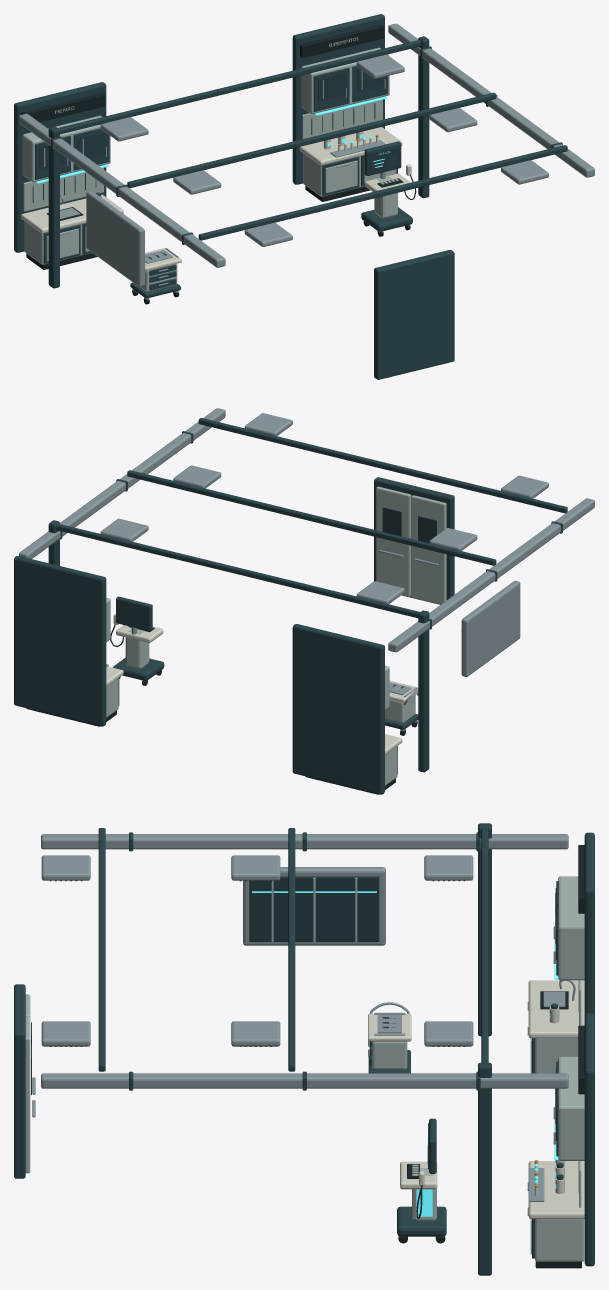
The model's file is entorno-arena.glb.
3 views of the same model, one above another, from view 1: azimuth 30°, elevation 25°; view 2: azimuth 150°, elevation 25°; view 3: azimuth 270°, elevation 25° (orthographic). The views are drawn at different scales.
Visible parts, largest first — view 1: Entorno_Petroleo.001, Entorno_Metal.001, Entorno_Esmalte.001, Entorno_Marfim.001, Entorno_Borracha.001, Entorno_Visor_Opaco.001, Entorno_Ciano.001; view 2: Entorno_Petroleo.001, Entorno_Metal.001, Entorno_Esmalte.001, Entorno_Marfim.001, Entorno_Visor_Opaco.001, Entorno_Borracha.001; view 3: Entorno_Metal.001, Entorno_Petroleo.001, Entorno_Esmalte.001, Entorno_Visor_Opaco.001, Entorno_Marfim.001, Entorno_Borracha.001, Entorno_Ciano.001.
Boxes of the visible parts, <box> form: Entorno_Petroleo.001: <box>14,14,567,379</box>; Entorno_Metal.001: <box>19,23,594,299</box>; Entorno_Esmalte.001: <box>22,47,398,291</box>; Entorno_Marfim.001: <box>21,37,411,270</box>; Entorno_Borracha.001: <box>21,24,416,304</box>; Entorno_Visor_Opaco.001: <box>39,69,399,173</box>; Entorno_Ciano.001: <box>35,96,390,241</box>; Entorno_Petroleo.001: <box>14,418,567,794</box>; Entorno_Metal.001: <box>19,408,594,731</box>; Entorno_Esmalte.001: <box>106,486,446,785</box>; Entorno_Marfim.001: <box>106,613,418,754</box>; Entorno_Visor_Opaco.001: <box>382,507,436,542</box>; Entorno_Borracha.001: <box>26,624,417,794</box>; Entorno_Metal.001: <box>32,834,575,1237</box>; Entorno_Petroleo.001: <box>14,823,594,1275</box>; Entorno_Esmalte.001: <box>25,876,584,1261</box>; Entorno_Visor_Opaco.001: <box>31,876,556,1169</box>; Entorno_Marfim.001: <box>368,980,584,1218</box>; Entorno_Borracha.001: <box>50,845,584,1268</box>; Entorno_Ciano.001: <box>252,891,558,1216</box>.
Bounding box in the file's own units: 9.07 × 3.6 × 9.03.
